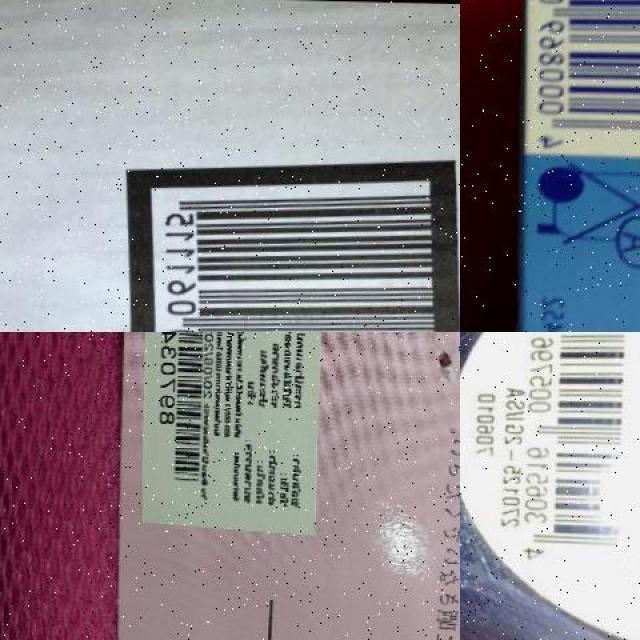Barcode: (144, 173, 445, 332), (518, 331, 640, 565), (521, 0, 640, 156), (153, 332, 210, 492)
